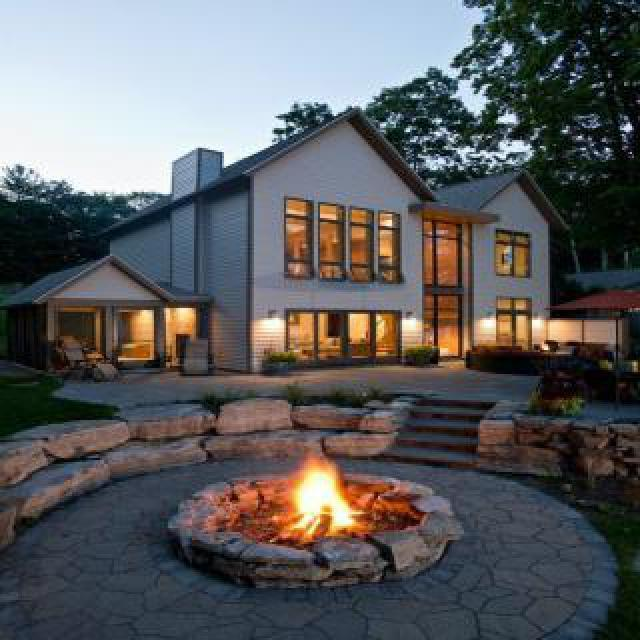Fire: (270, 452, 358, 542)
